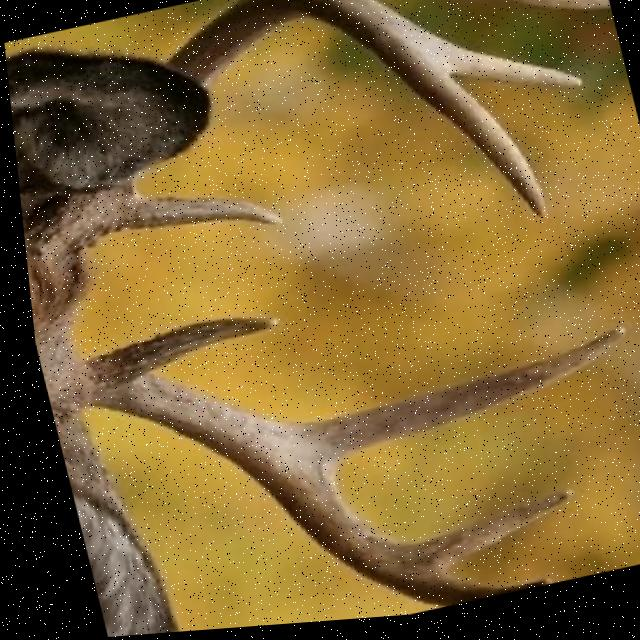R-F: (71, 359, 540, 613)
R-G1: (80, 318, 273, 384), (102, 197, 280, 234)
R-G2: (300, 334, 620, 466), (447, 0, 610, 19)
R-G3: (397, 494, 564, 575), (433, 43, 580, 97)
